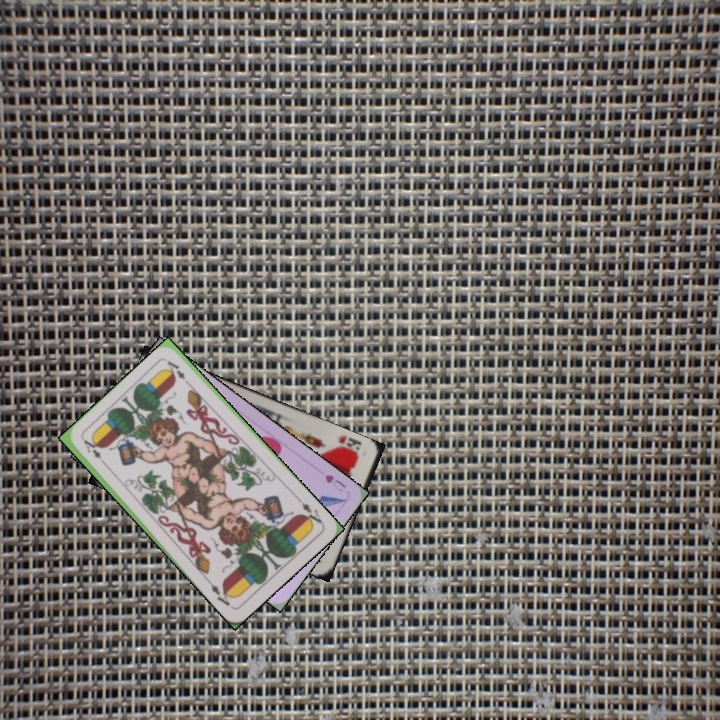EA: (293, 494, 326, 529), (79, 436, 110, 469)
HK: (332, 431, 365, 458)
HU: (321, 470, 349, 495)
